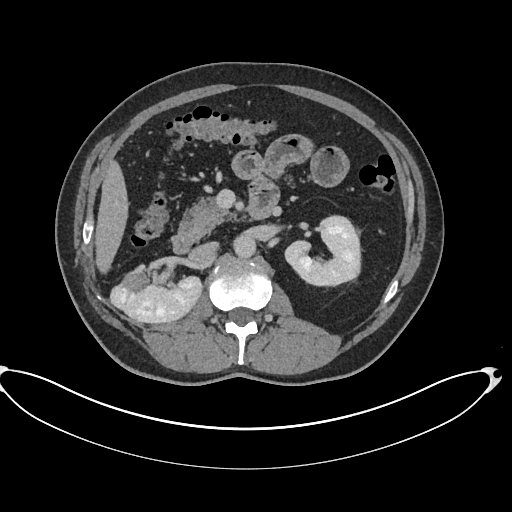Lesion: (118, 270, 150, 293)
